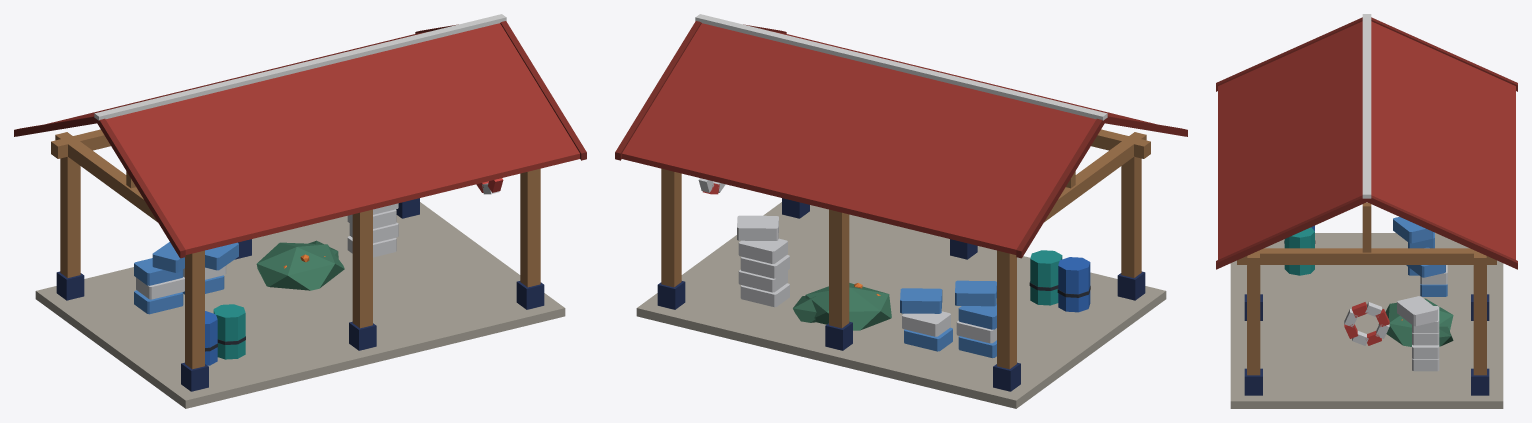
File: hangar.glb
3 renders of one model, left to right at view 1: azimuth 30°, elevation 25°; view 2: azimuth 150°, elevation 25°; view 3: azimuth 270°, elevation 25°, orthographic. The views are drawn at different scales.
Parts seen in each view (by area): view 1: hangar; view 2: hangar; view 3: hangar.
Part boxes in pixels (box(x1,y1,x2,y2)): hangar: box(14, 14, 586, 408); hangar: box(615, 14, 1187, 408); hangar: box(1216, 14, 1517, 408).
Bounding box in the file's own units: 10.2 × 5.98 × 7.2.
